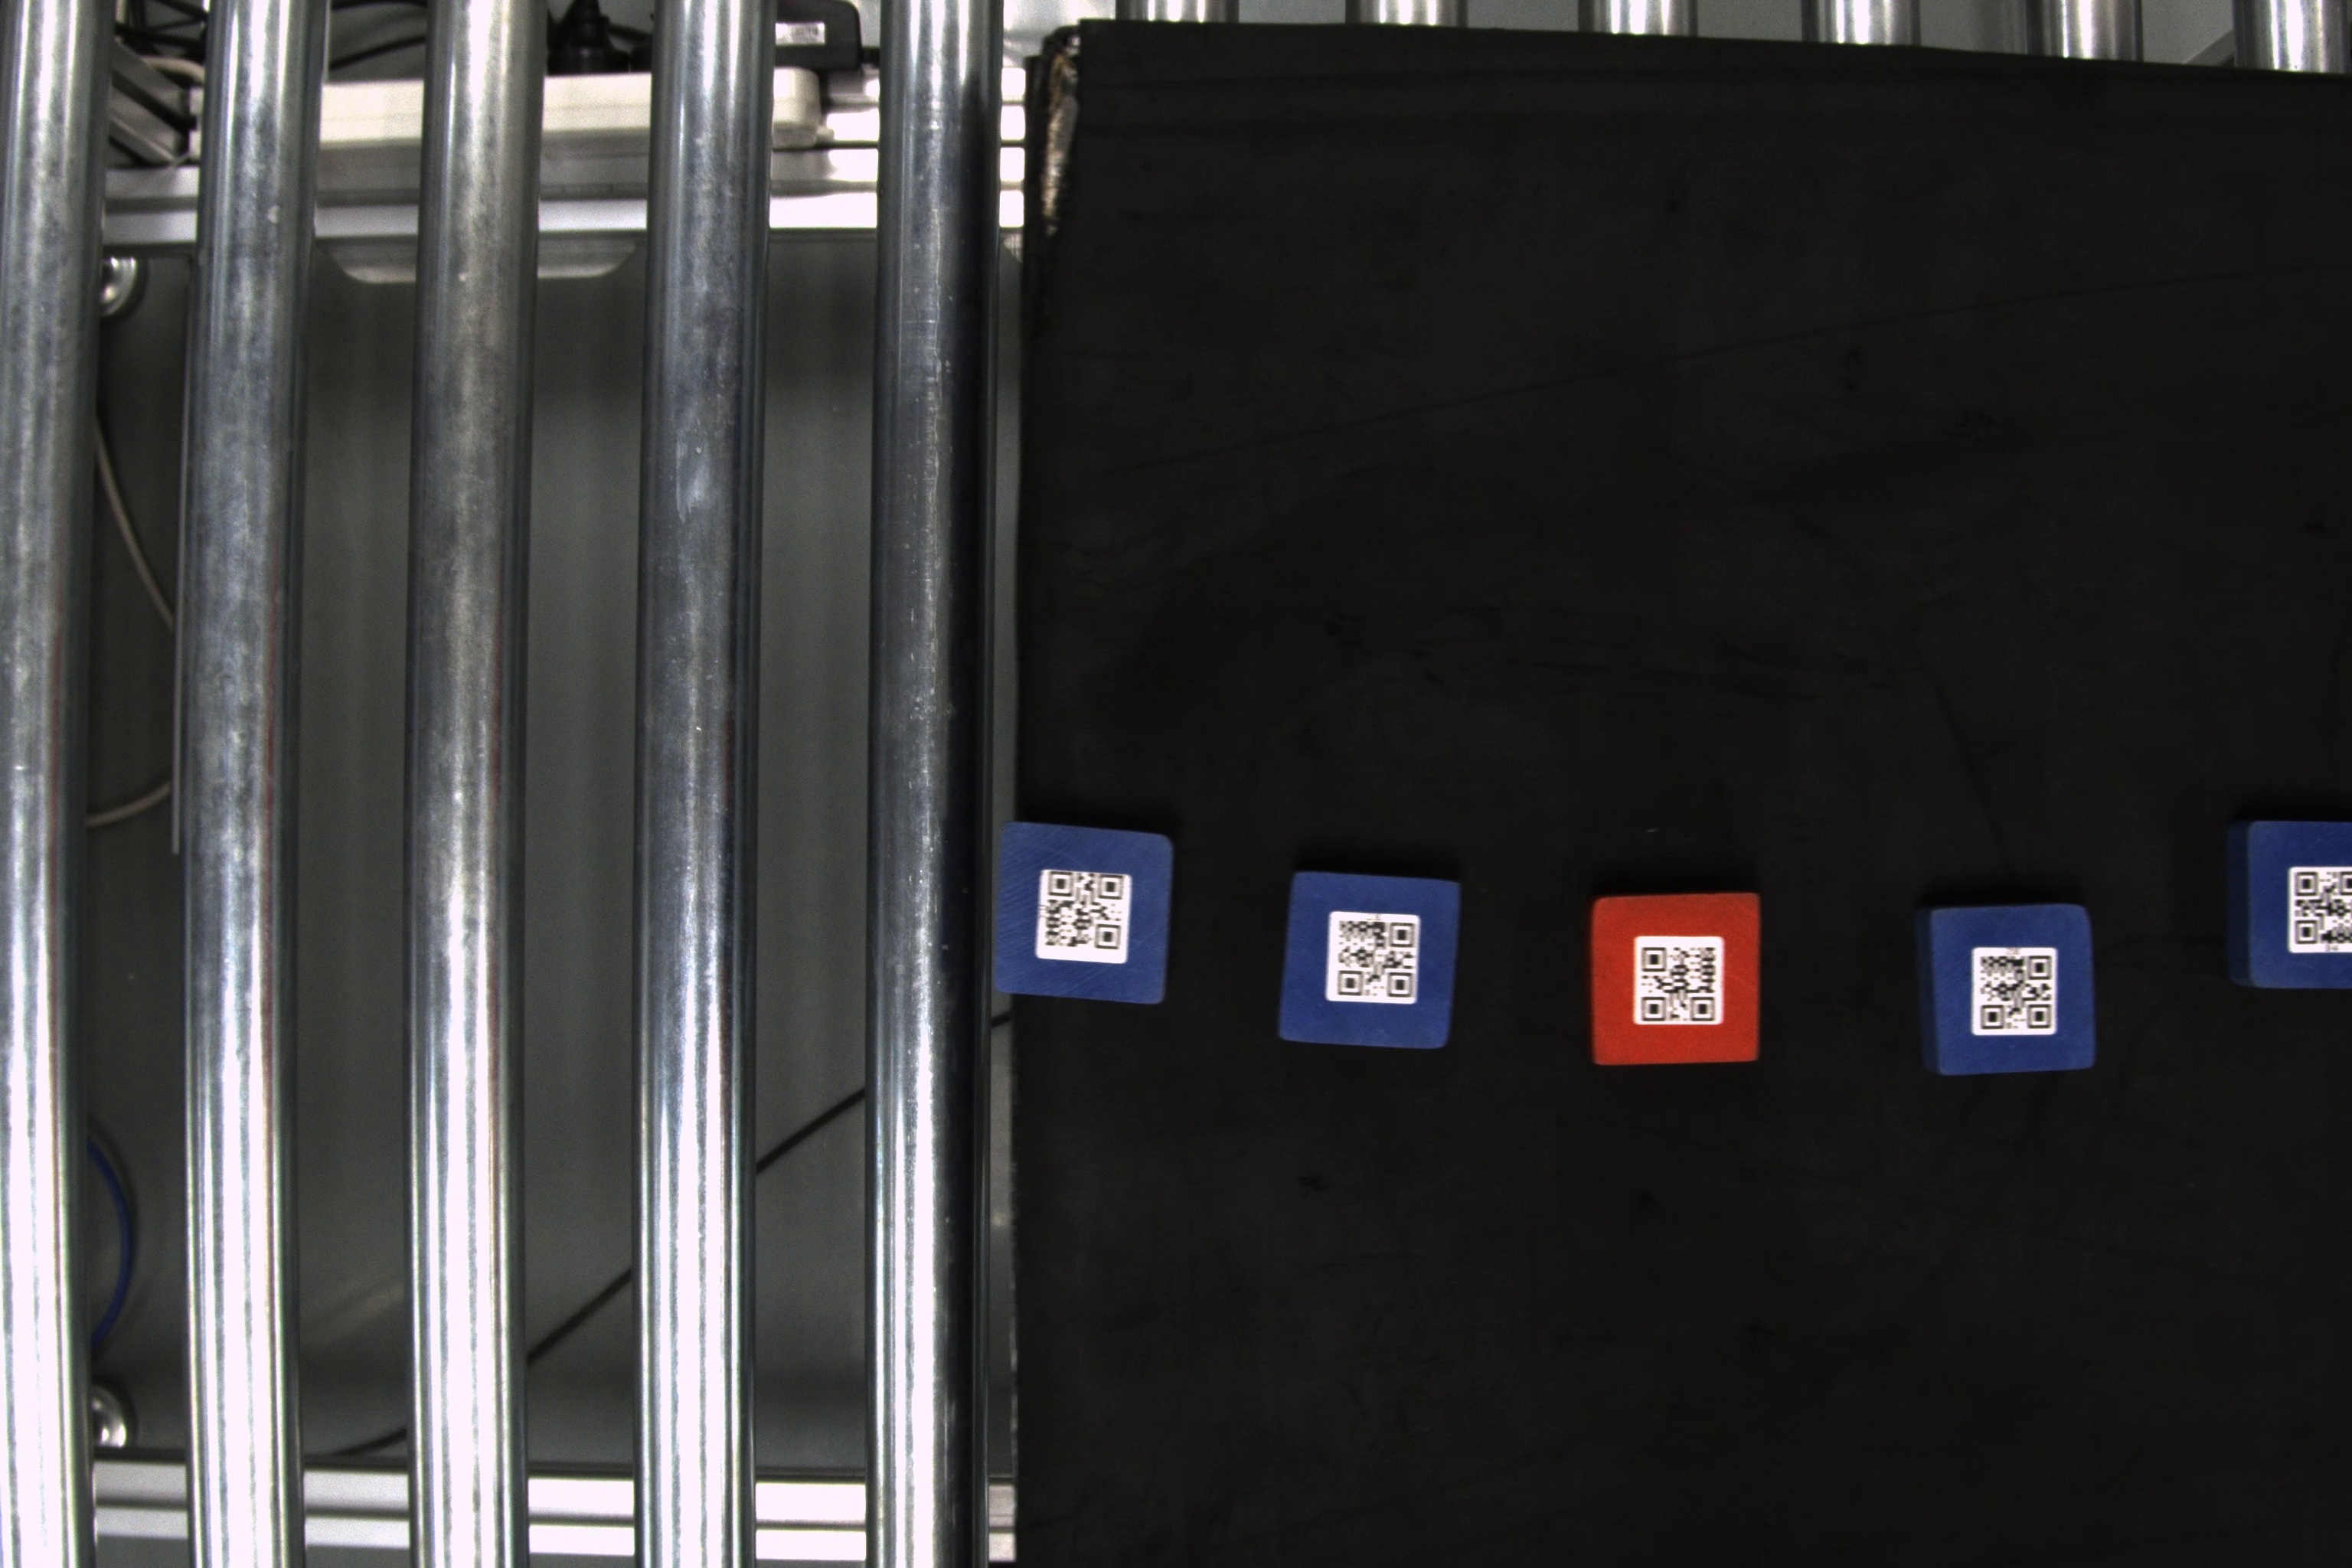wood: (997, 814, 1181, 1011), (1907, 898, 2103, 1078), (1279, 870, 1470, 1053), (1585, 887, 1771, 1073), (2228, 814, 2348, 997)
